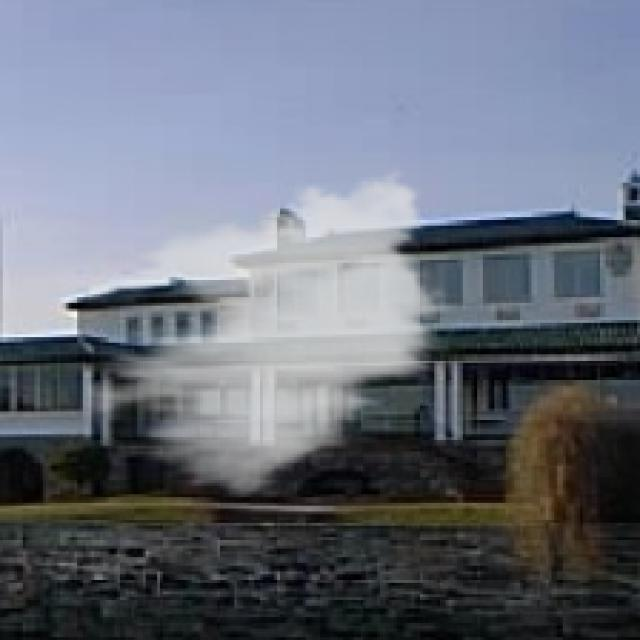smoke: (86, 160, 451, 506)
